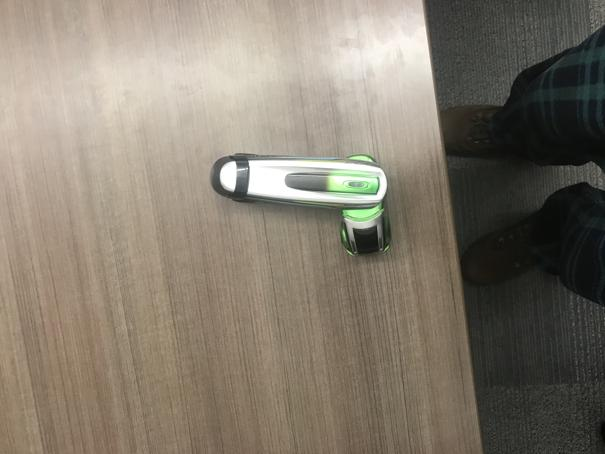Freewheel: (210, 153, 399, 256)
